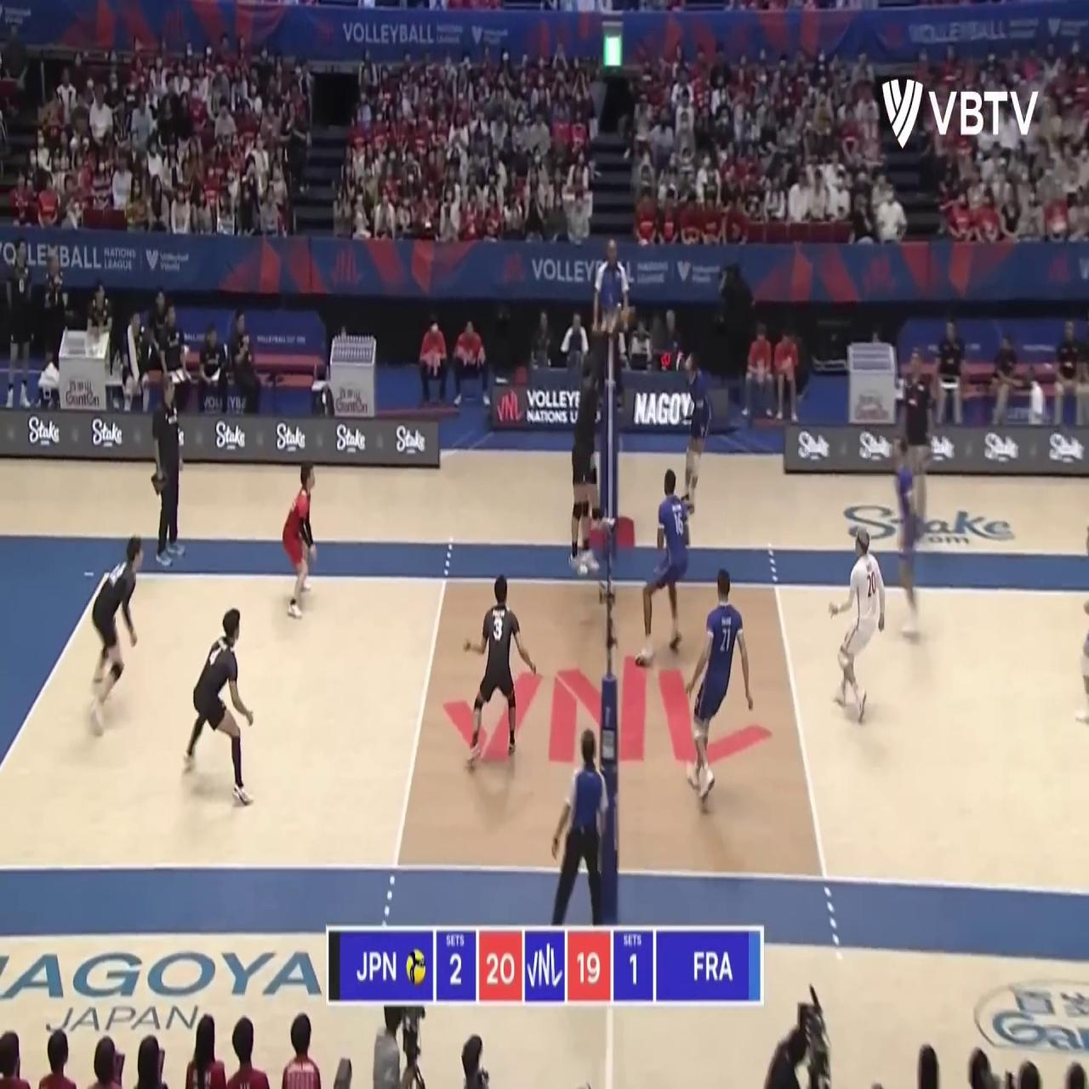ball: (620, 303, 634, 327)
